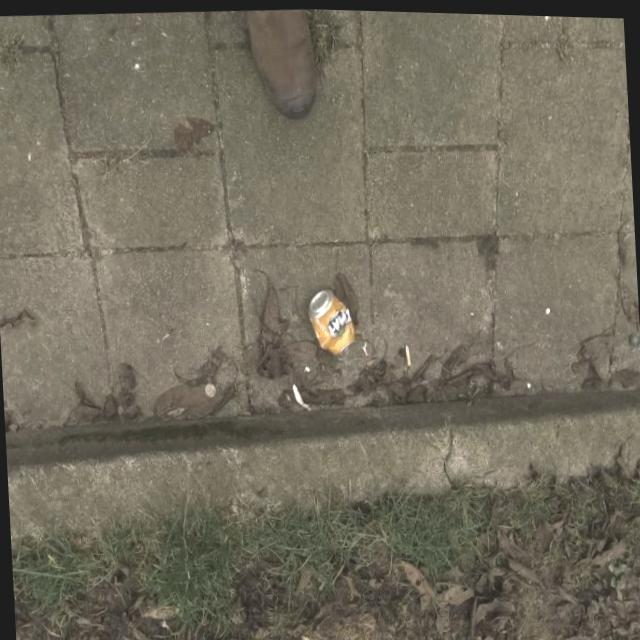Can-Metal: (306, 284, 357, 358)
